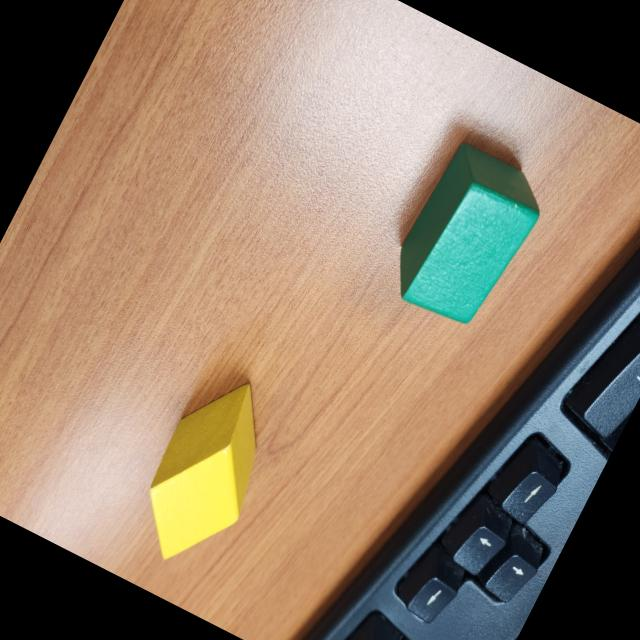green: (380, 136, 556, 338)
yellow: (118, 362, 296, 584)
